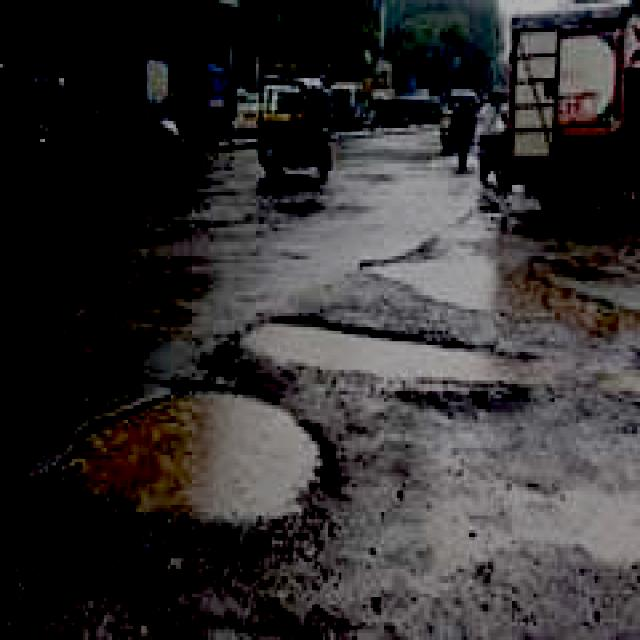Pothole: (0, 297, 574, 633)
